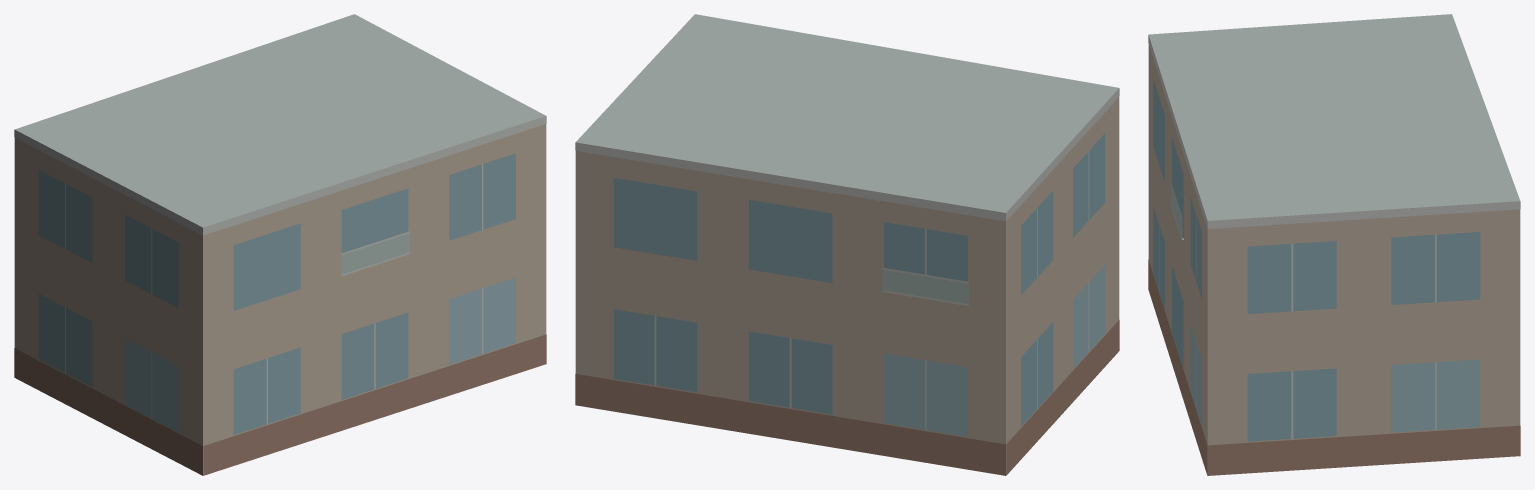
The model's file is survey-upis-32767818.glb.
The picture shows the model from 3 angles, left to right: view 1: azimuth 30°, elevation 25°; view 2: azimuth 150°, elevation 25°; view 3: azimuth 270°, elevation 25°; orthographic projection. The views are drawn at different scales.
Visible parts, largest first — view 1: survey-upis-32767818.tmp; view 2: survey-upis-32767818.tmp; view 3: survey-upis-32767818.tmp.
Part boxes in pixels (box(x1,y1,x2,y2)): survey-upis-32767818.tmp: box(14, 14, 546, 475); survey-upis-32767818.tmp: box(575, 14, 1119, 475); survey-upis-32767818.tmp: box(1148, 14, 1520, 475).
Size of the model in its own units: 13.24 by 7.6 by 10.06.
